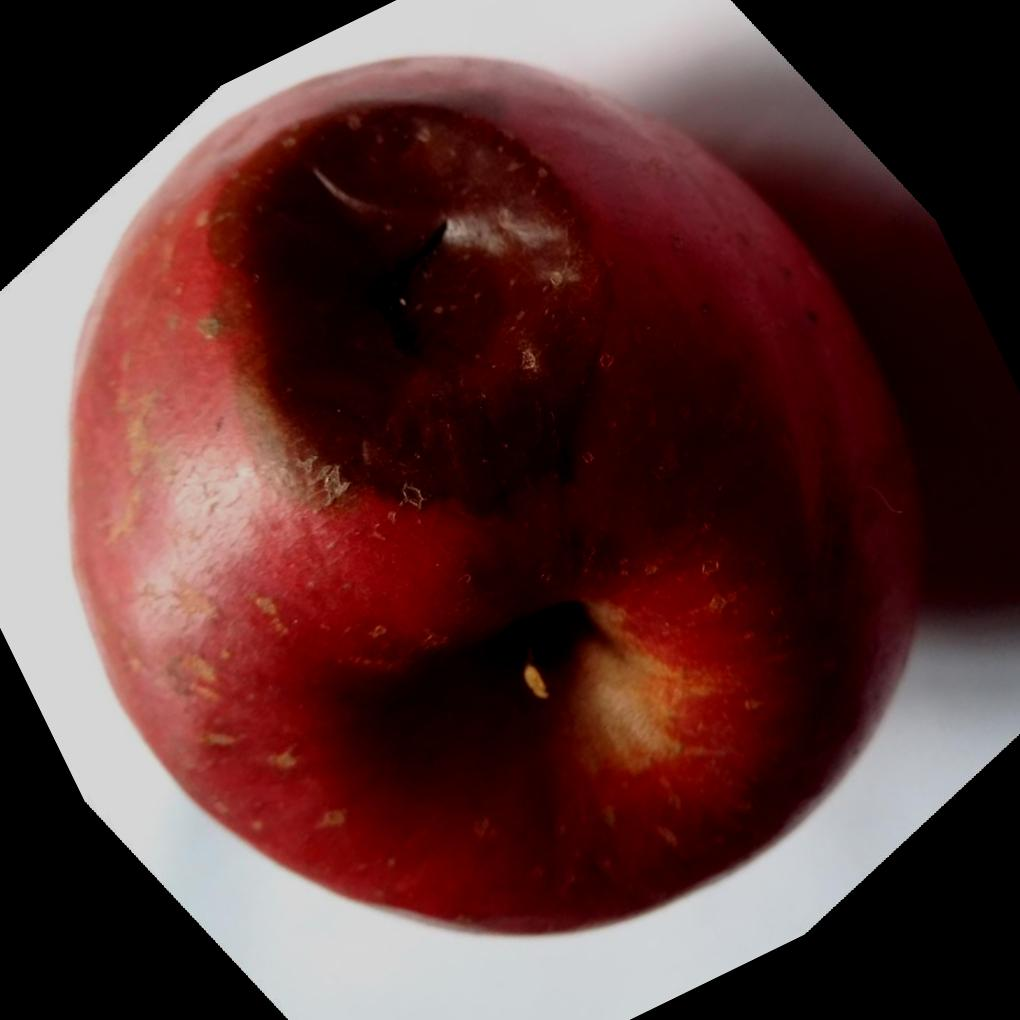FreshOrange: (62, 44, 935, 938)
